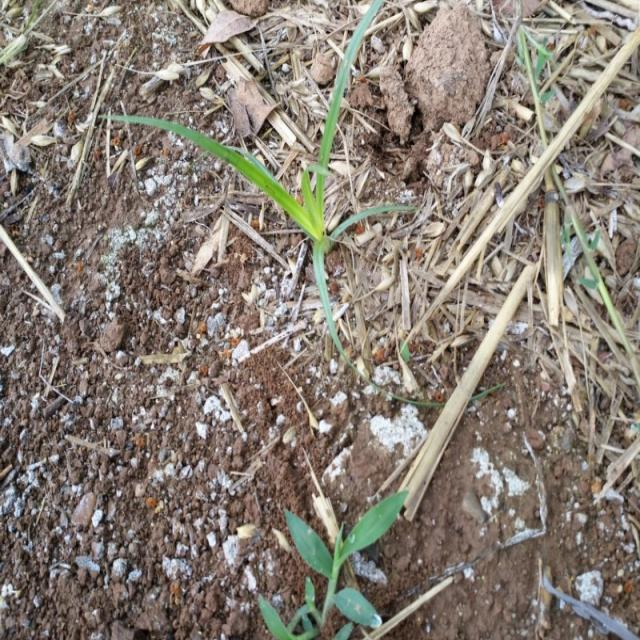sedge: (99, 15, 422, 402)
